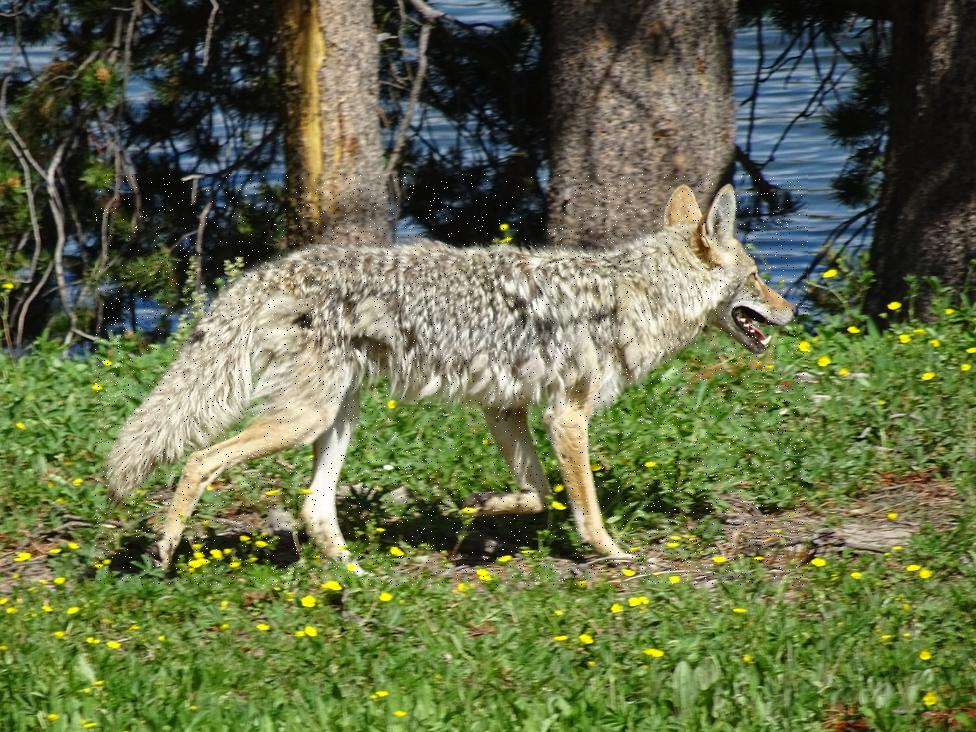Coyote: (96, 175, 809, 587)
